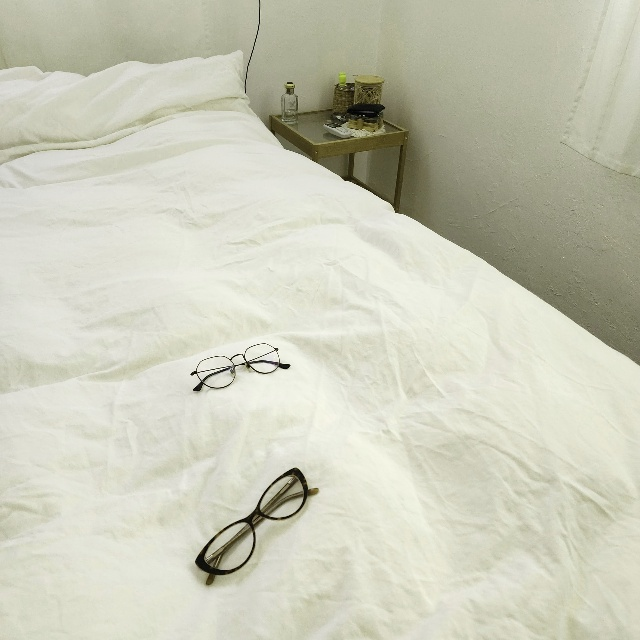glasses: (191, 463, 320, 588), (191, 342, 290, 391)
